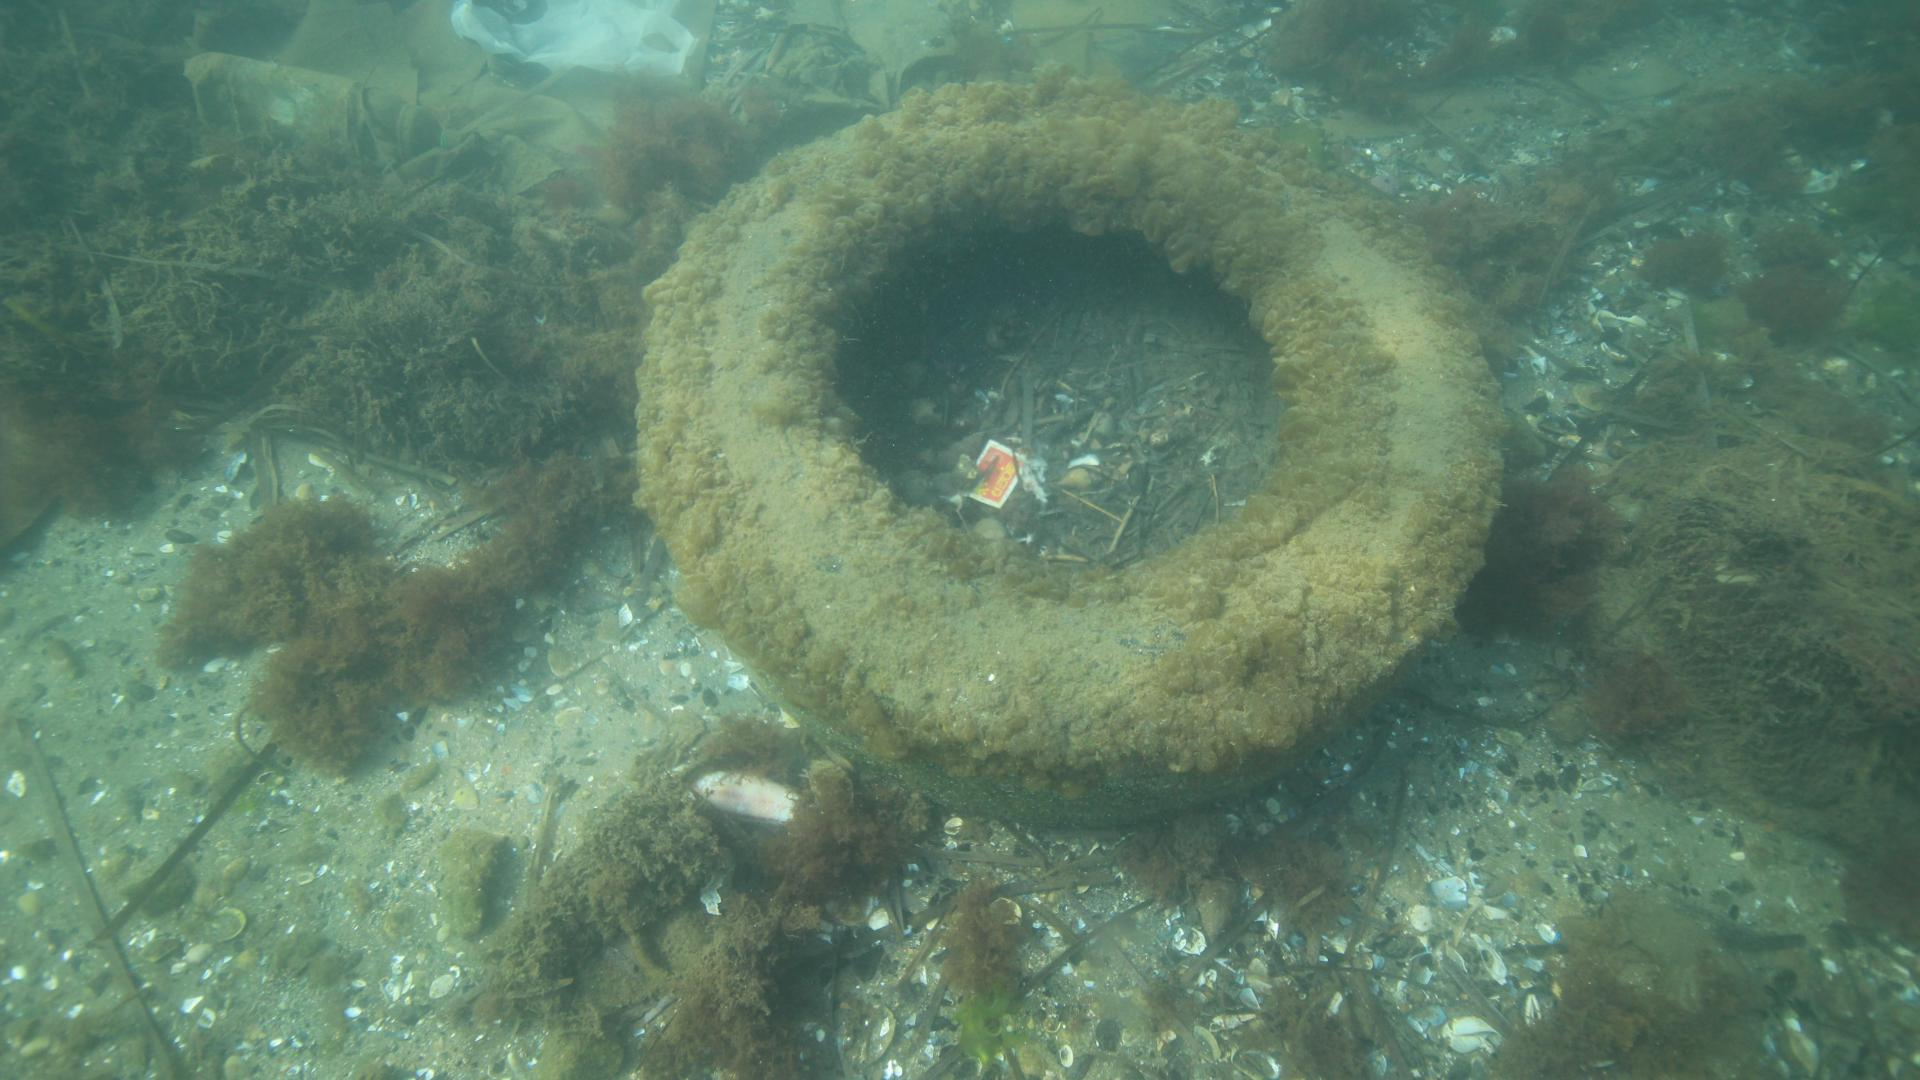tire: (655, 98, 1509, 823)
